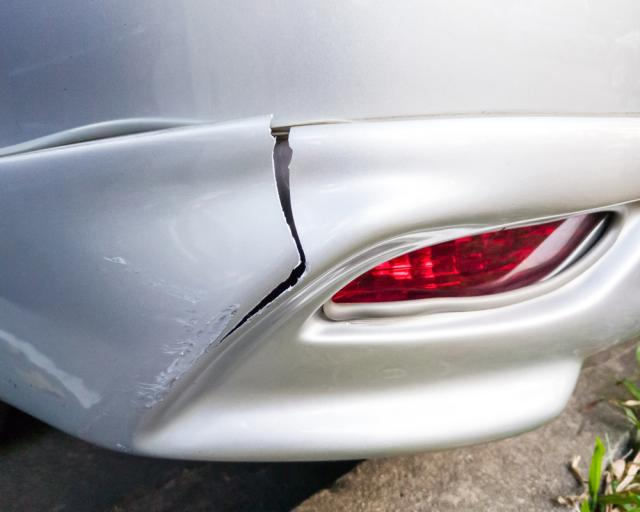crack: (214, 117, 306, 348)
scratch: (99, 250, 236, 412), (0, 322, 108, 408)
